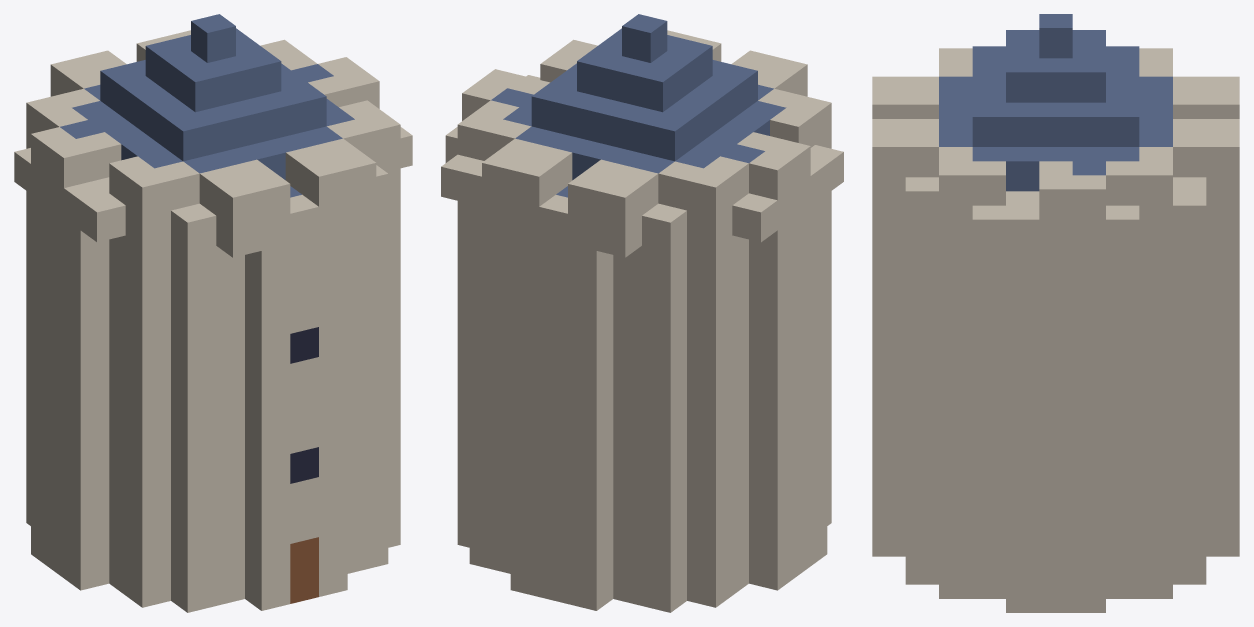
The model's file is round_tower.glb.
3 renders of one model, left to right at view 1: azimuth 30°, elevation 25°; view 2: azimuth 150°, elevation 25°; view 3: azimuth 270°, elevation 25°, orthographic.
Visible parts, largest first — view 1: round_tower_stone, round_tower_roof_slate, round_tower_black, round_tower_door; view 2: round_tower_stone, round_tower_roof_slate; view 3: round_tower_stone, round_tower_roof_slate.
Boxes of the visible parts, box(x1,y1,x2,y2) form: round_tower_stone: box(14, 30, 412, 612); round_tower_roof_slate: box(60, 14, 354, 197); round_tower_black: box(290, 327, 318, 483); round_tower_door: box(290, 537, 318, 603); round_tower_stone: box(441, 30, 843, 612); round_tower_roof_slate: box(491, 14, 786, 197); round_tower_stone: box(872, 48, 1239, 612); round_tower_roof_slate: box(939, 14, 1172, 191).
Size of the model in its own units: 15.18 by 23.46 by 15.18.
